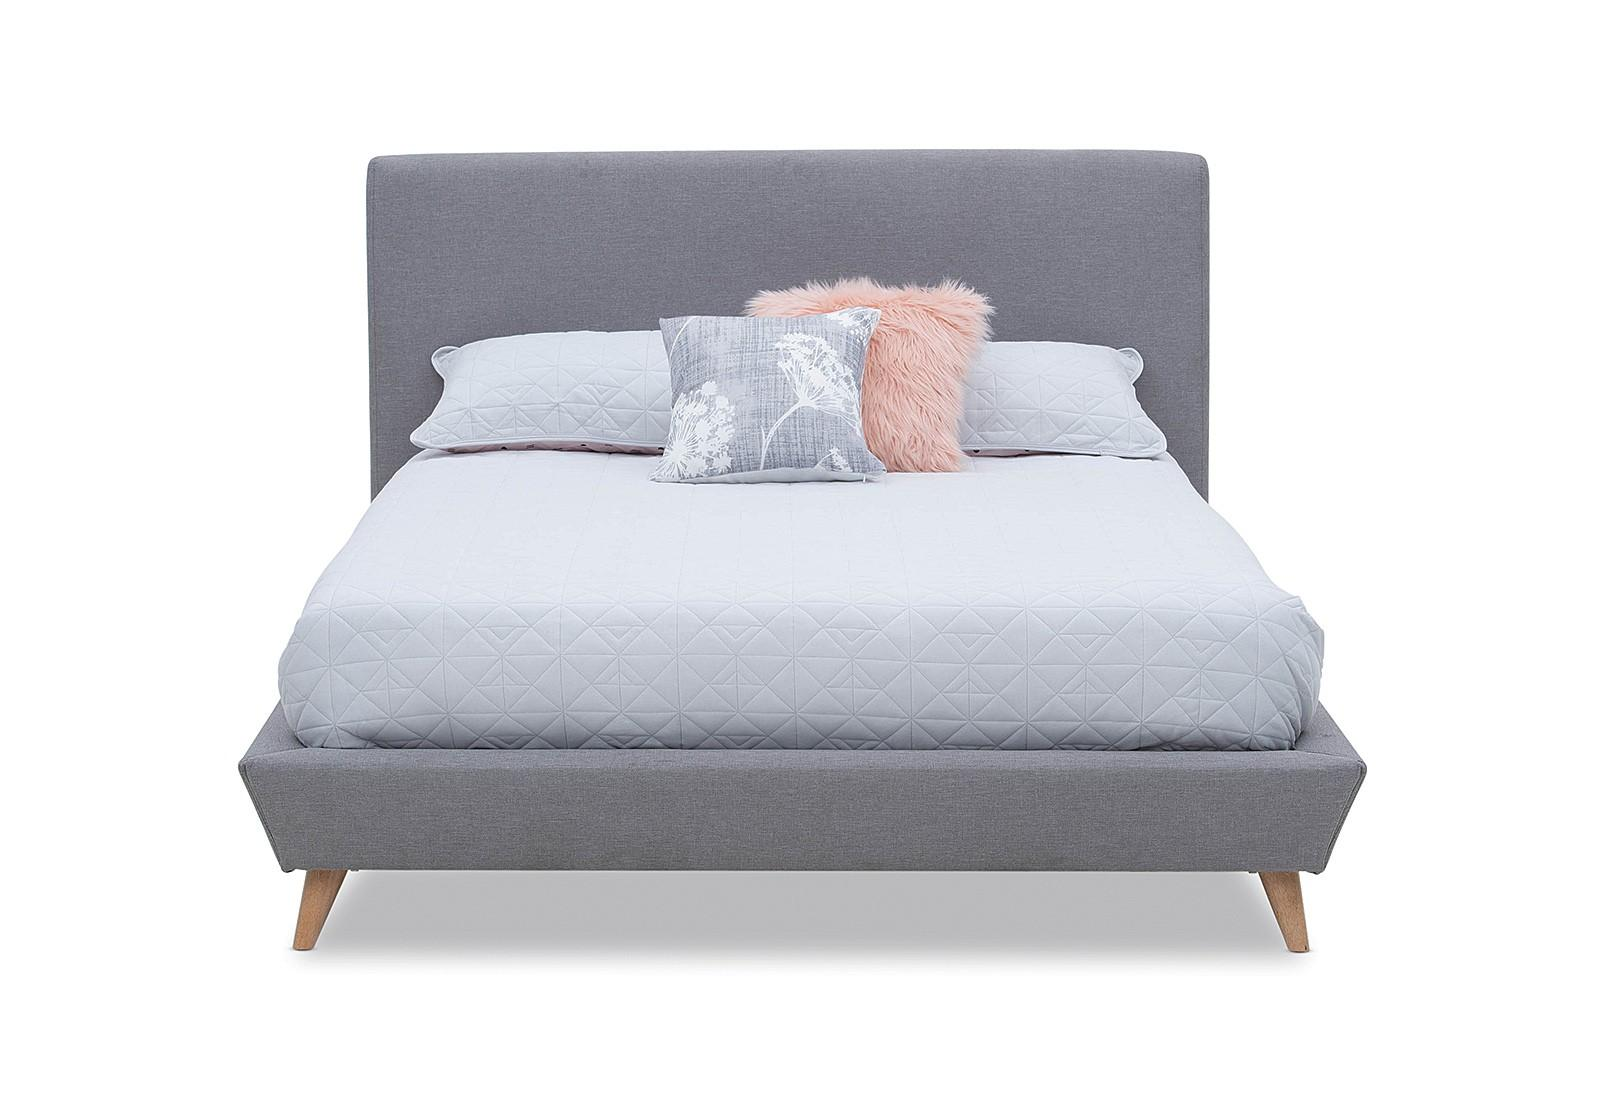bed: (177, 93, 1413, 920)
